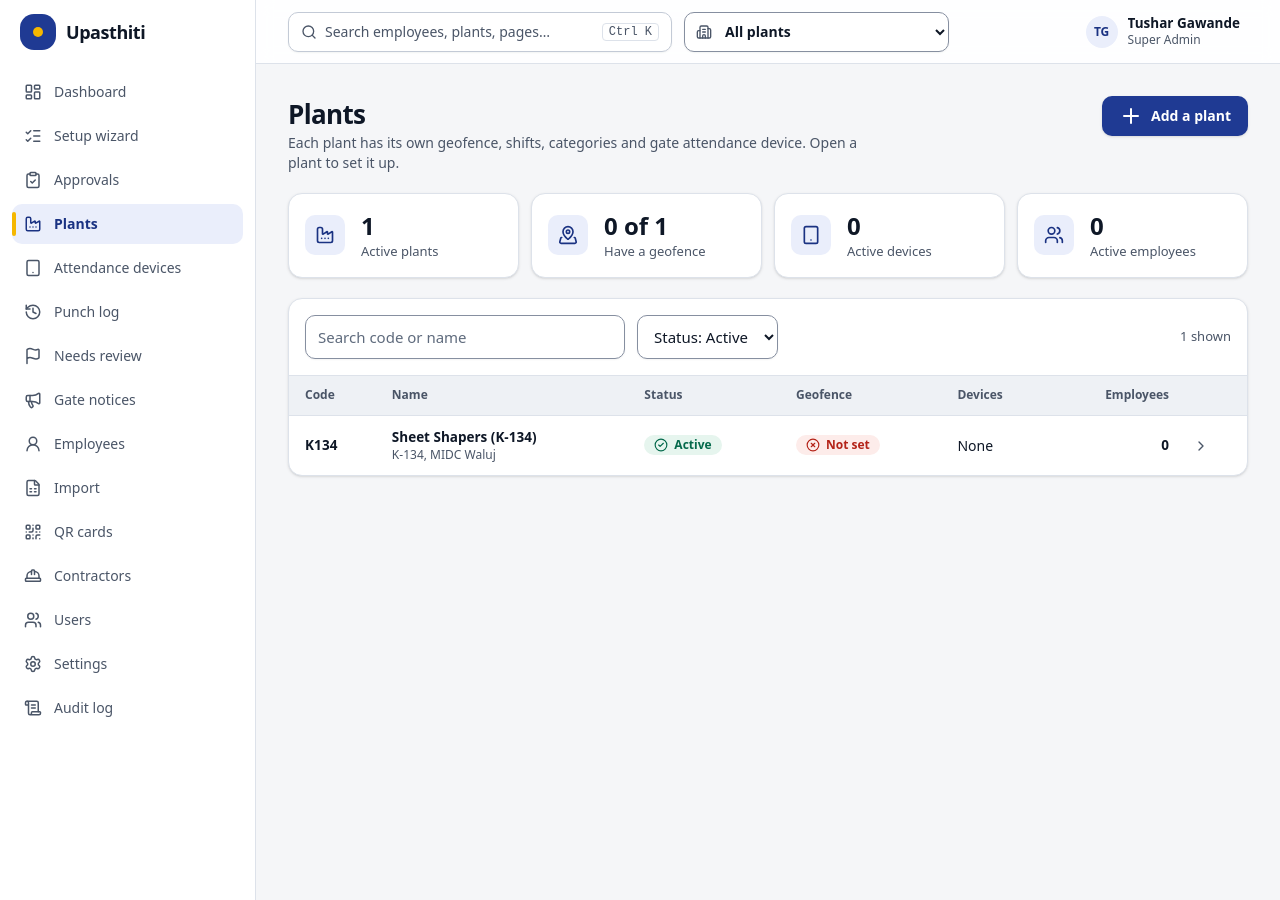
Scenario: plant details › checks the code before sending
Click the button "Add a plant" at point(1175, 116), box x1=1102 y1=96 x2=1248 y2=136
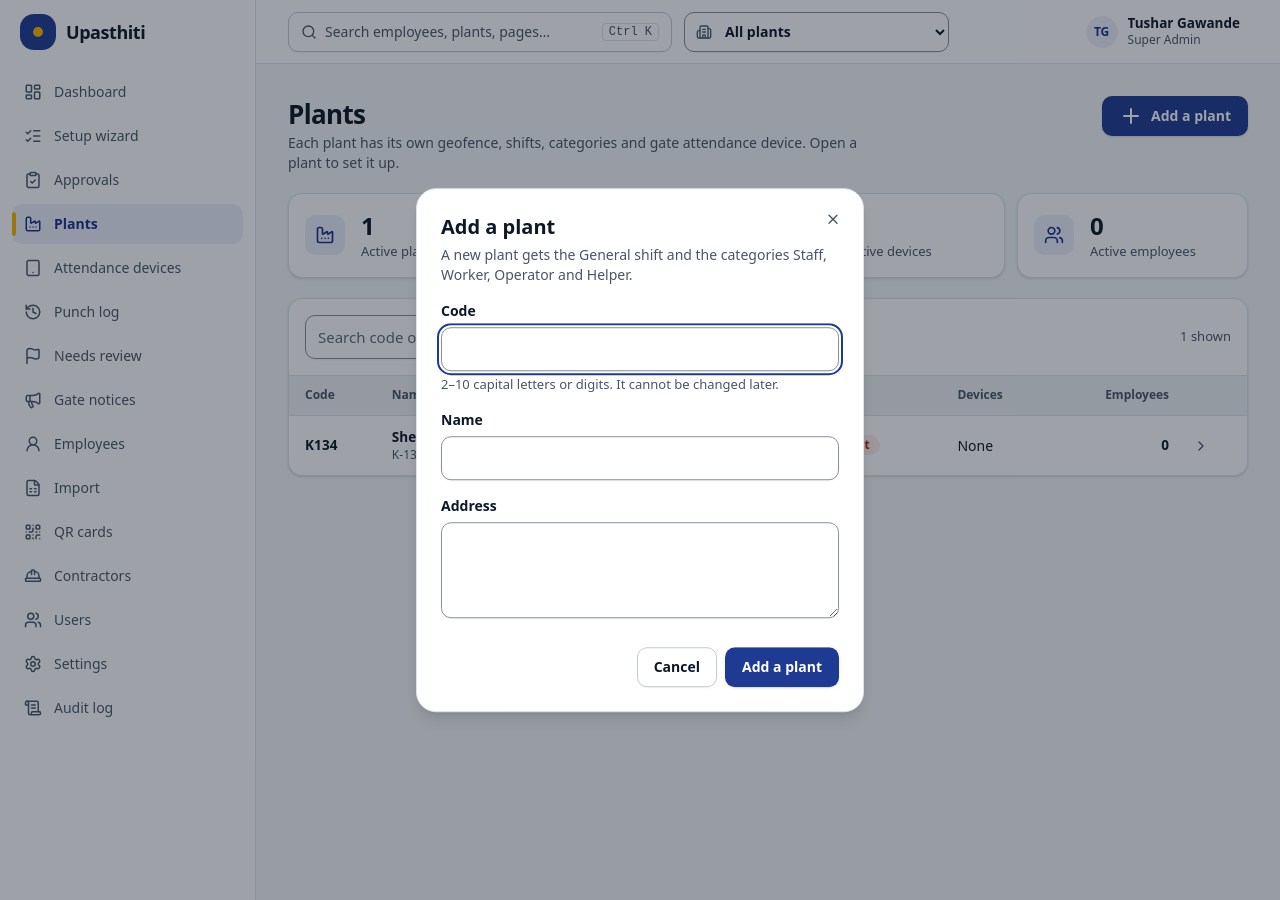
Type "a" into the field labelled "Code" at point(640, 349), box x1=441 y1=327 x2=839 y2=371
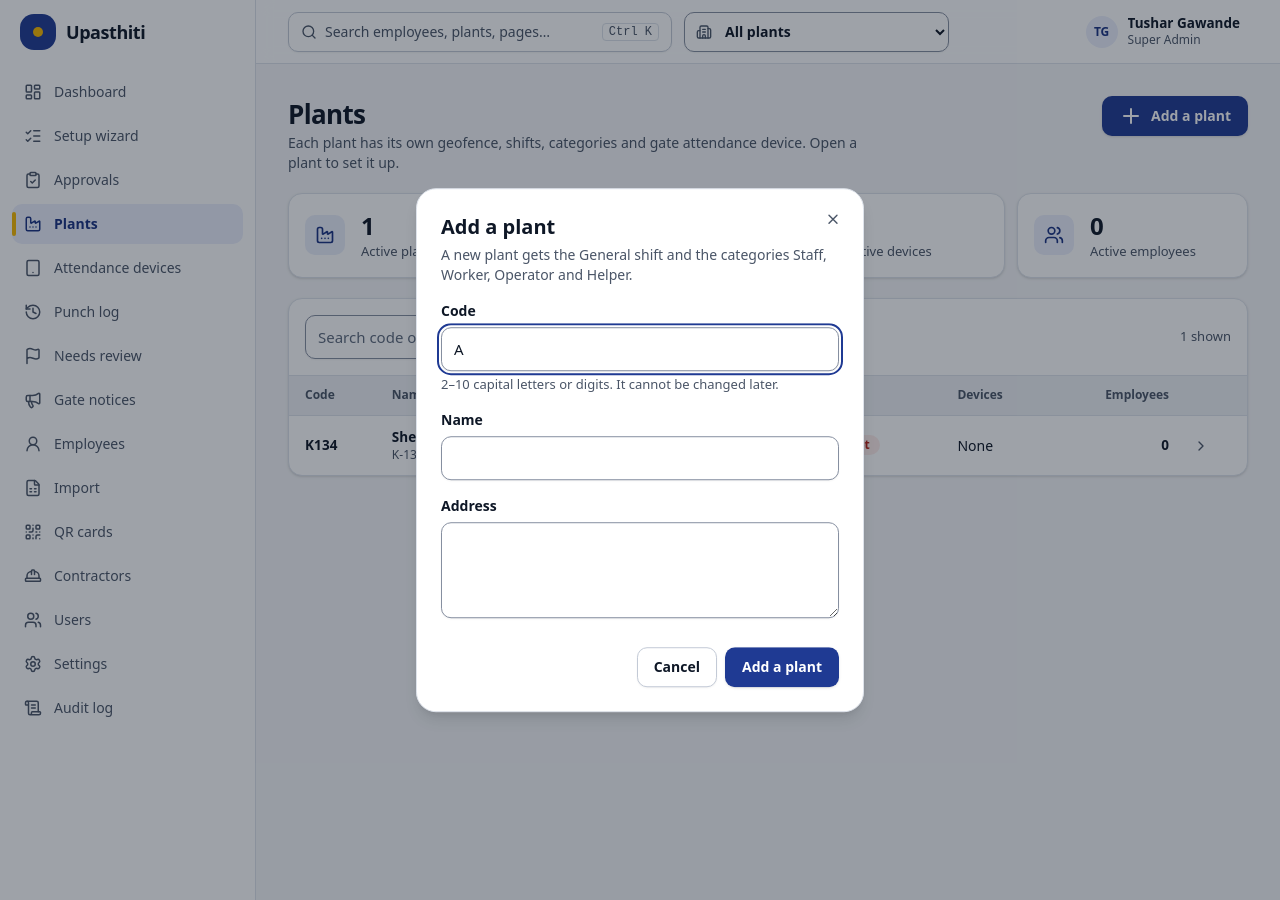
Type "X" into the field labelled "Name" at point(640, 458), box x1=441 y1=436 x2=839 y2=480
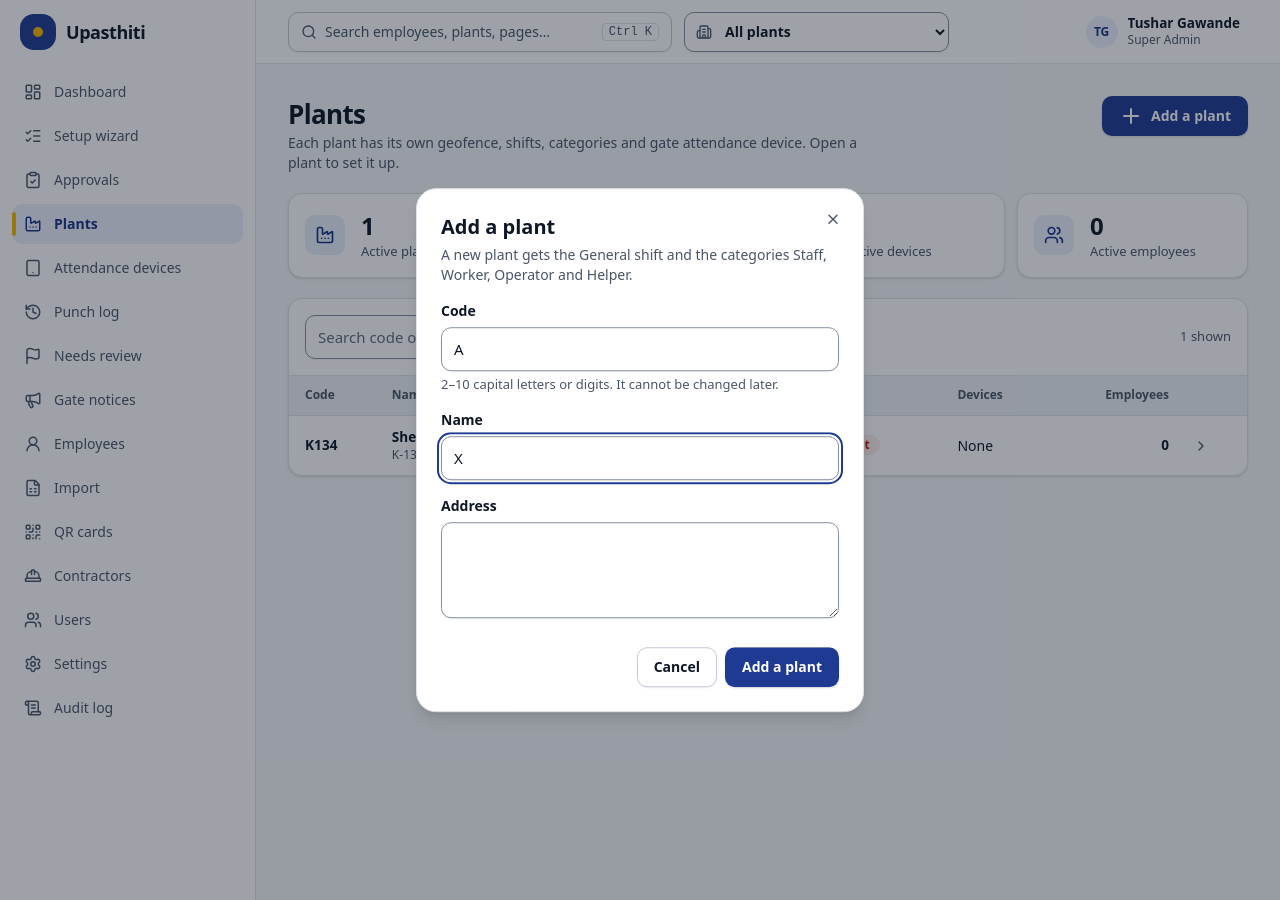
Click the button "Add a plant" at point(782, 667), box x1=725 y1=647 x2=839 y2=687
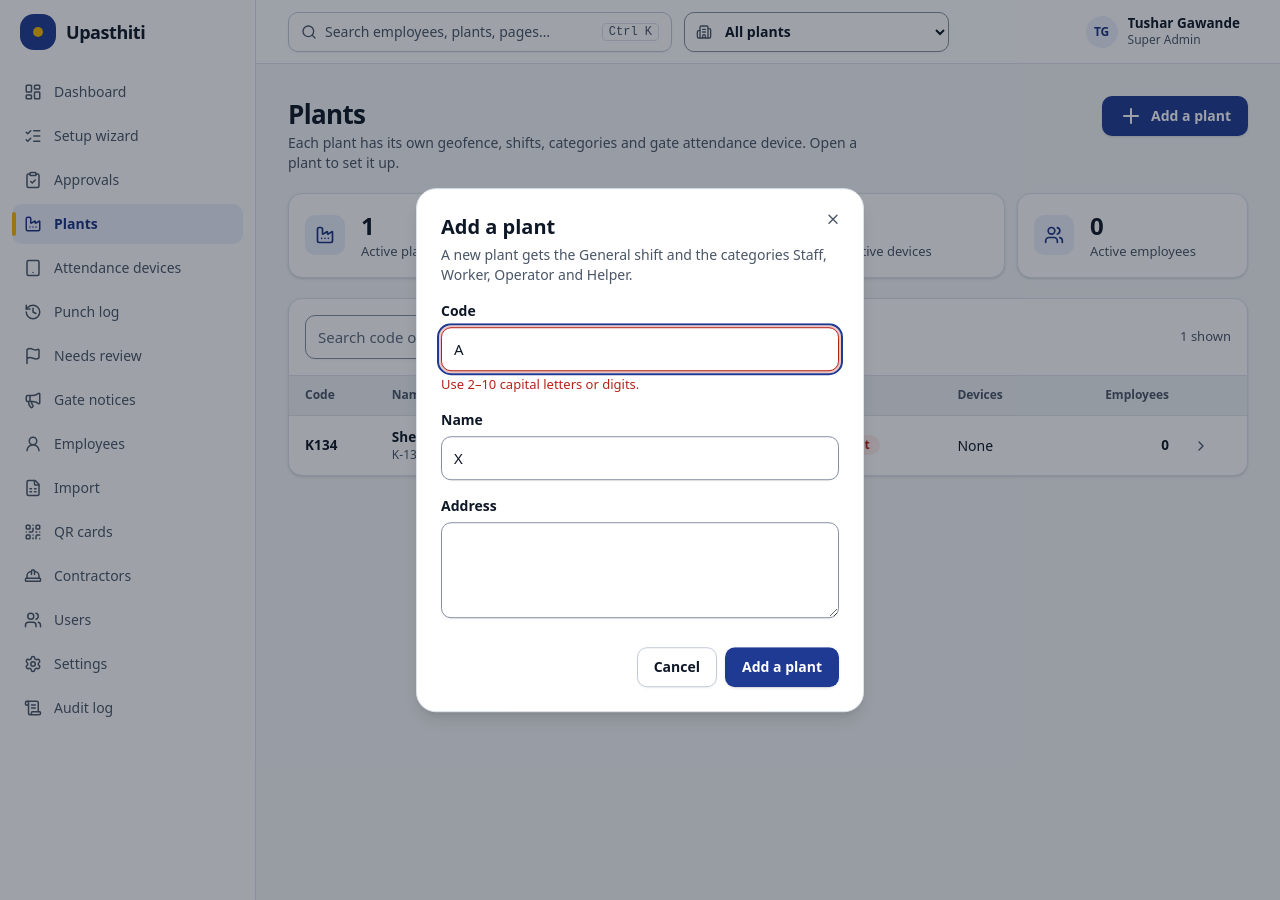
Check: the text "Use 2–10 capital letters or digits." is shown, box x1=441 y1=375 x2=639 y2=393
